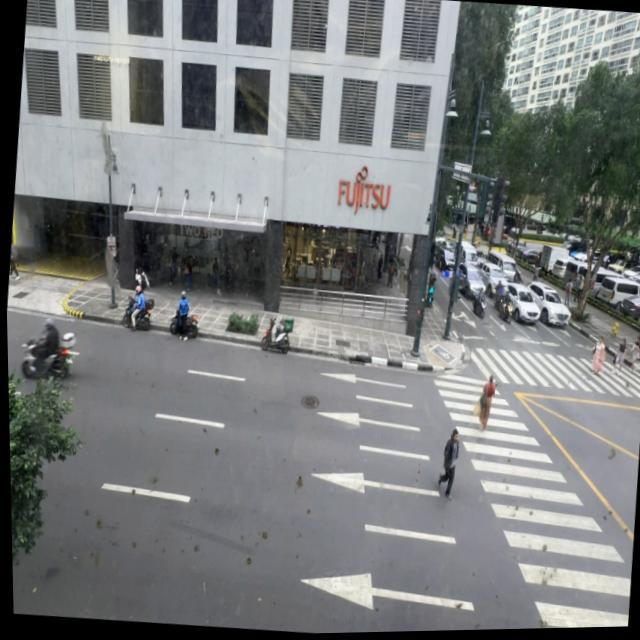jaywalking: (435, 426, 461, 500)
